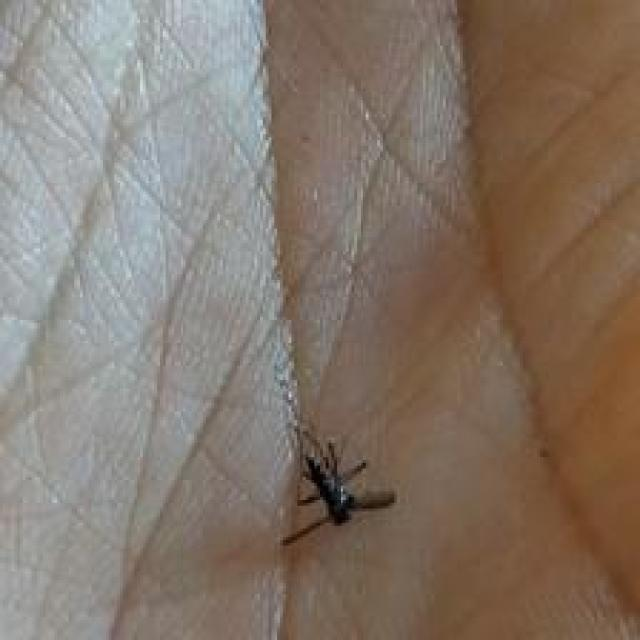Aedes albopictus: (278, 422, 396, 547)
